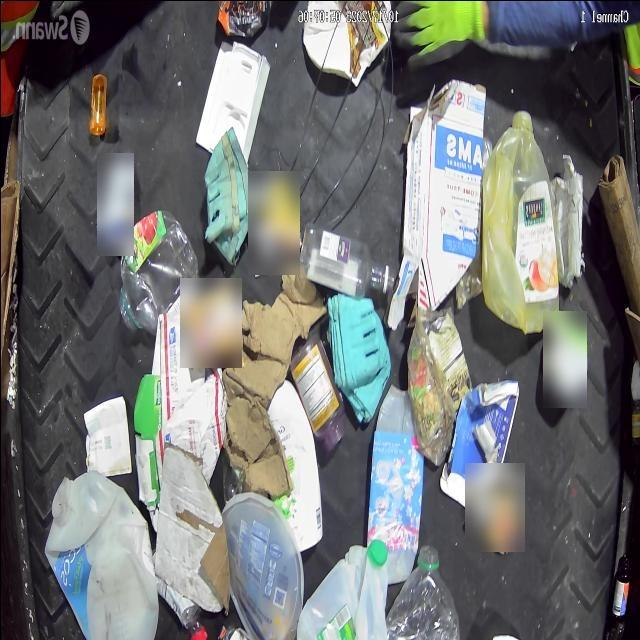milk_jug: (42, 468, 157, 640), (295, 538, 389, 640)
non_white_jug: (480, 108, 556, 332)
plastic_bottle: (114, 208, 198, 338), (385, 546, 458, 640), (302, 226, 392, 296)
